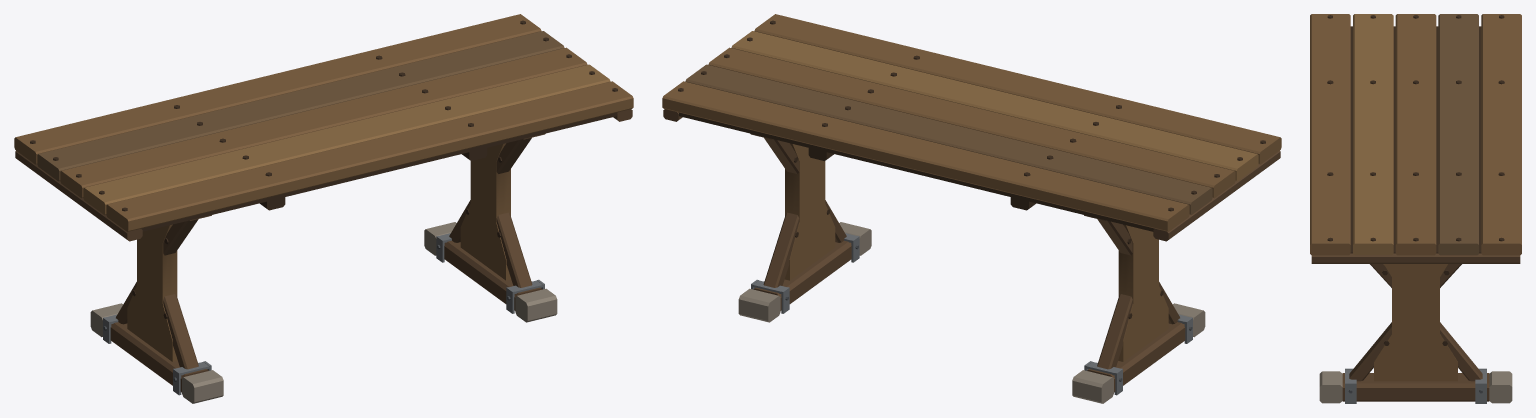
File: SM_LPD_Furn_TableTrestle_01.fbx
The picture shows the model from 3 angles, left to right: view 1: azimuth 30°, elevation 25°; view 2: azimuth 150°, elevation 25°; view 3: azimuth 270°, elevation 25°; orthographic projection. The views are drawn at different scales.
Parts seen in each view (by area): view 1: SM_LPD_Furn_TableTrestle_01; view 2: SM_LPD_Furn_TableTrestle_01; view 3: SM_LPD_Furn_TableTrestle_01.
Boxes of the visible parts, x1,y1,x2,y2 form: SM_LPD_Furn_TableTrestle_01: (14,14,633,403); SM_LPD_Furn_TableTrestle_01: (662,14,1281,403); SM_LPD_Furn_TableTrestle_01: (1310,14,1521,403).
Size of the model in its own units: 2 by 0.785 by 0.78.
